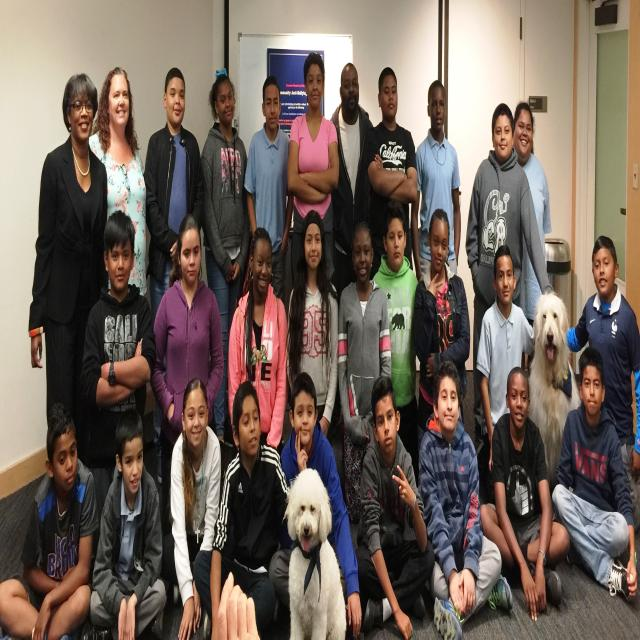body: (466, 100, 559, 453), (27, 70, 109, 432), (416, 358, 515, 640), (150, 213, 226, 579), (80, 208, 153, 585), (142, 64, 204, 482), (478, 363, 575, 623), (550, 344, 640, 611), (209, 379, 300, 639), (0, 407, 98, 639), (565, 232, 640, 533), (280, 370, 363, 639), (196, 66, 253, 442), (352, 372, 429, 640), (90, 404, 165, 640), (338, 222, 392, 527), (475, 244, 537, 508), (165, 376, 223, 640), (370, 199, 421, 491), (227, 225, 290, 461), (414, 207, 472, 459), (88, 65, 148, 301), (286, 207, 341, 439), (286, 51, 339, 291), (511, 102, 553, 382), (243, 72, 293, 306), (329, 63, 377, 302), (366, 68, 419, 283), (411, 82, 462, 284), (212, 571, 263, 640)
